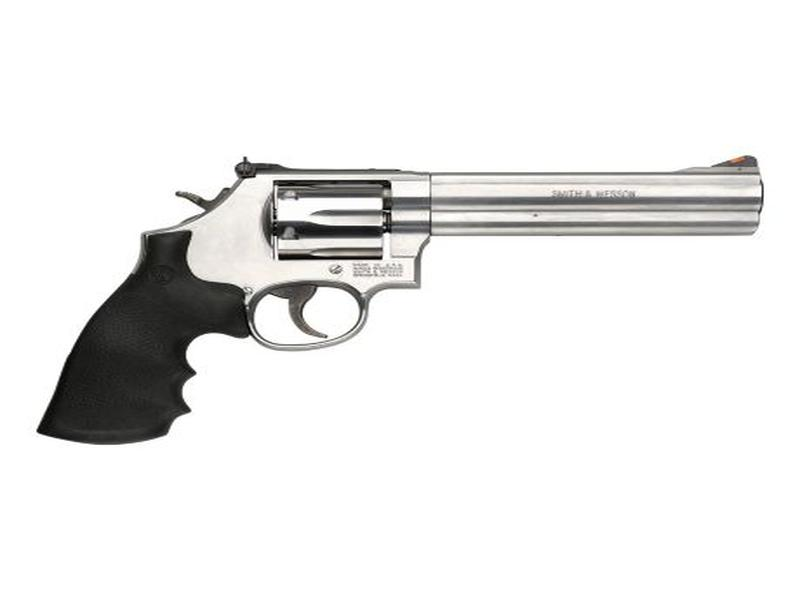Revolver: (67, 139, 776, 388)
